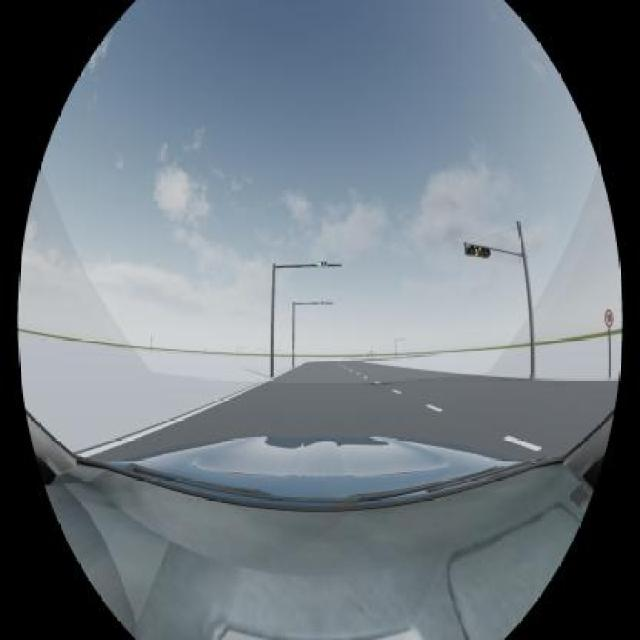forb_speed_over_100: (605, 309, 614, 329)
